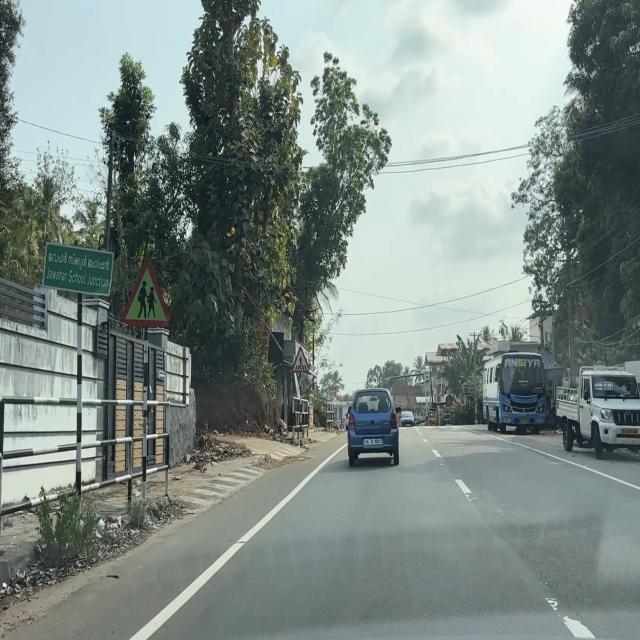GENERAL: (41, 241, 116, 298)
PEDESTRIAN_CROSSING: (291, 346, 310, 374)
SCHOOL_AHEAD: (119, 260, 171, 328)
